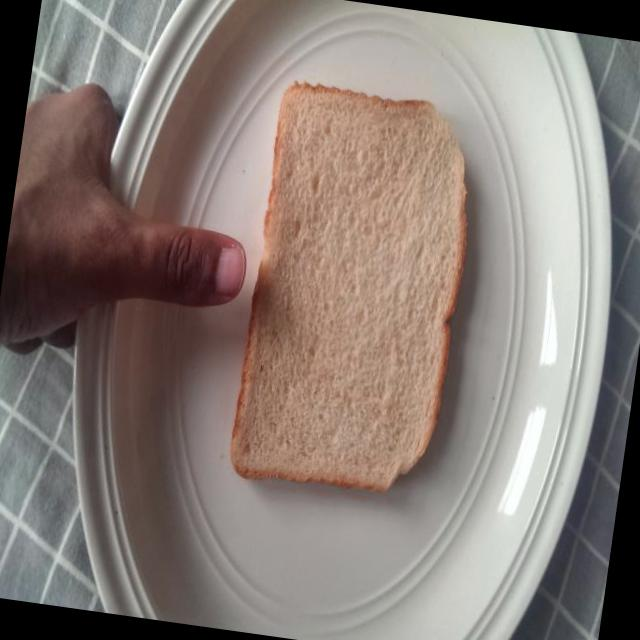Bread: (220, 70, 492, 522)
Finger: (144, 216, 255, 328)
